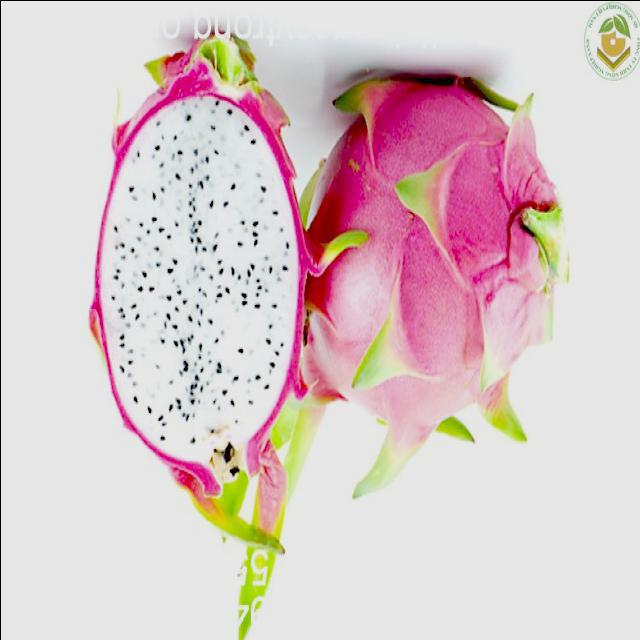trang: (239, 66, 573, 638), (92, 23, 293, 570)
